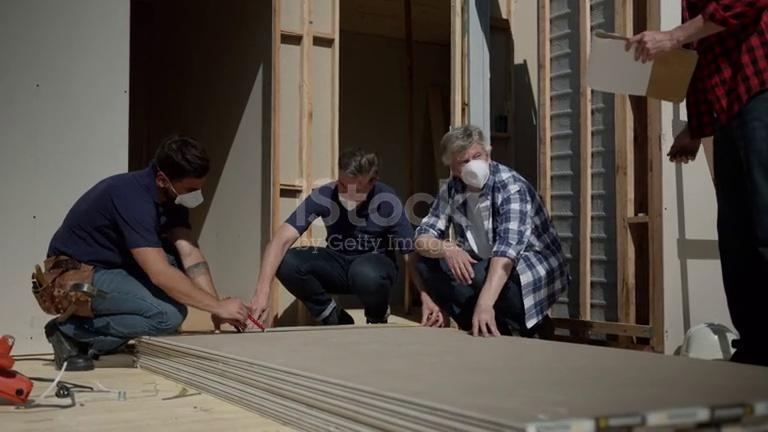helmet: (681, 321, 739, 361)
mask: (461, 158, 491, 188), (337, 190, 367, 213), (175, 188, 205, 208)
person: (626, 1, 768, 366), (42, 133, 257, 372), (403, 125, 573, 338), (247, 149, 446, 328)
